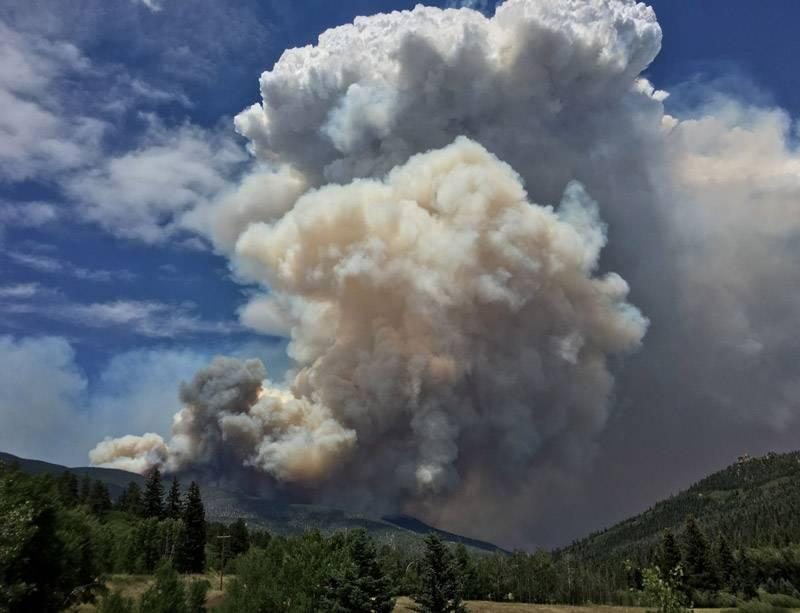smoke: (91, 129, 658, 524)
